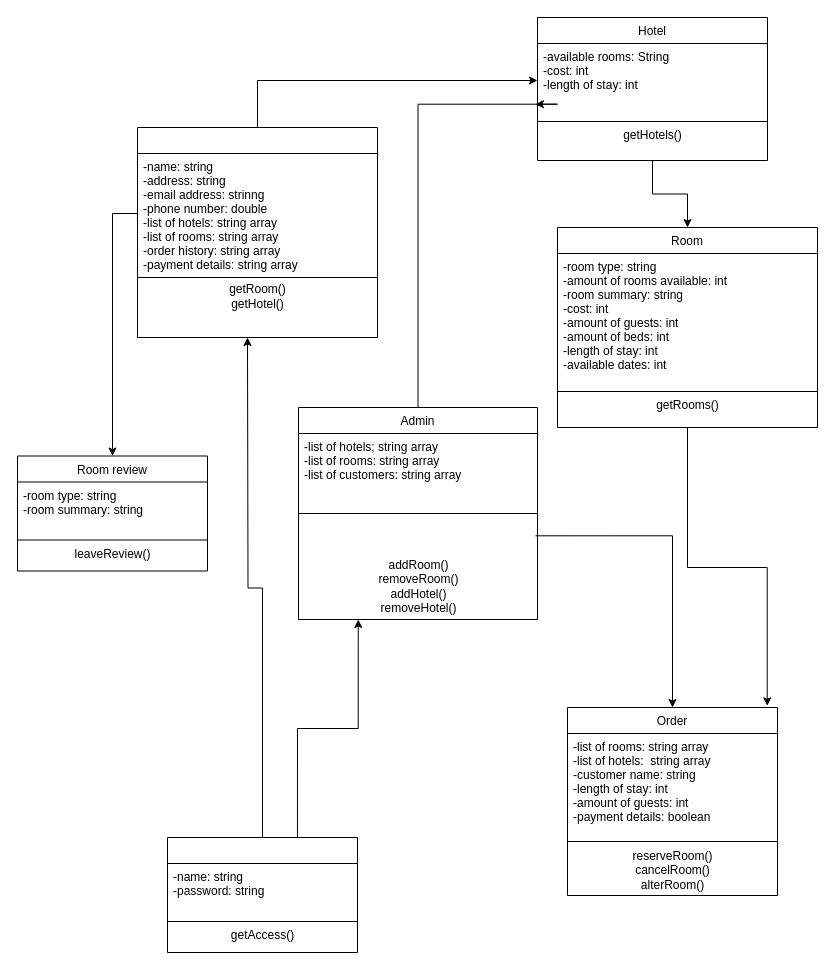
The diagram is 835 pixels wide and 970 high, and some of its shapes have lost their labels. The box of each missing label's shape, as (x1, y1, x2, y2) in pixels:
Customer: (136, 126, 378, 338)
Login/out manager: (166, 836, 358, 952)
